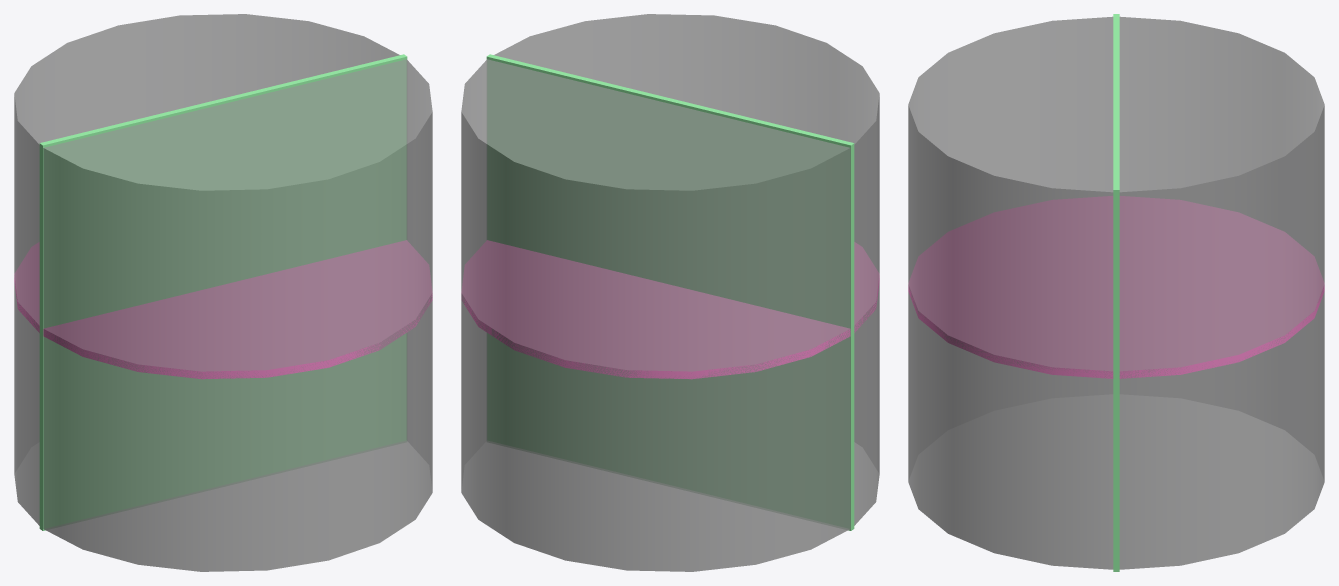
Rendered from planos_de_simetria_del_cilindro.glb.
The picture shows the model from 3 angles, left to right: view 1: azimuth 30°, elevation 25°; view 2: azimuth 150°, elevation 25°; view 3: azimuth 270°, elevation 25°; orthographic projection.
Parts seen in each view (by area): view 1: pCylinder3, pCube2, pCylinder4; view 2: pCylinder3, pCube2, pCylinder4; view 3: pCylinder3, pCylinder4, pCube2.
Boxes of the visible parts, x1,y1,x2,y2 form: pCylinder3: (14,14,432,571); pCube2: (39,54,407,530); pCylinder4: (14,240,432,379); pCylinder3: (461,14,879,571); pCube2: (486,54,854,530); pCylinder4: (461,240,879,379); pCylinder3: (908,16,1324,569); pCylinder4: (908,196,1324,378); pCube2: (1113,14,1119,571).
Size of the model in its own units: 2 by 2.02 by 2.
